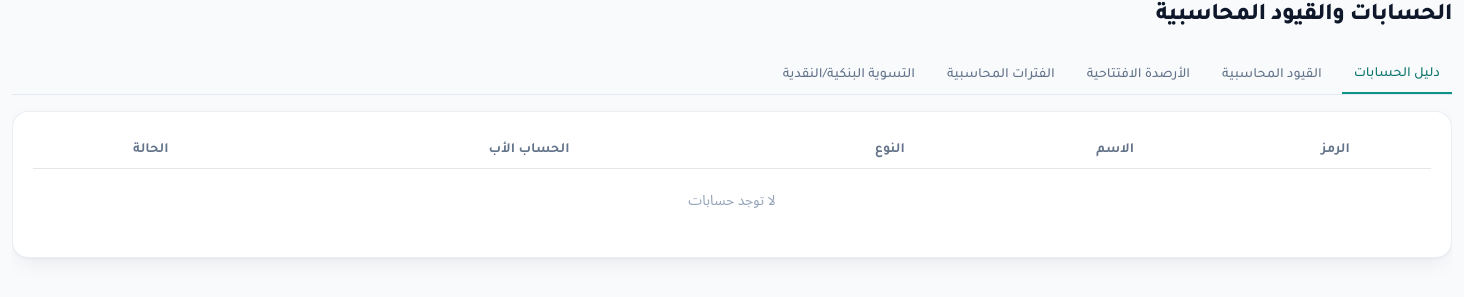
Test: AccountingPage - Opening Balances / Fiscal Periods tabs › Fiscal Periods tab lists periods and only offers create/close-reopen with accounting.period.manage
Click the button "الفترات المحاسبية": click(1001, 75) [935, 56, 1067, 94]
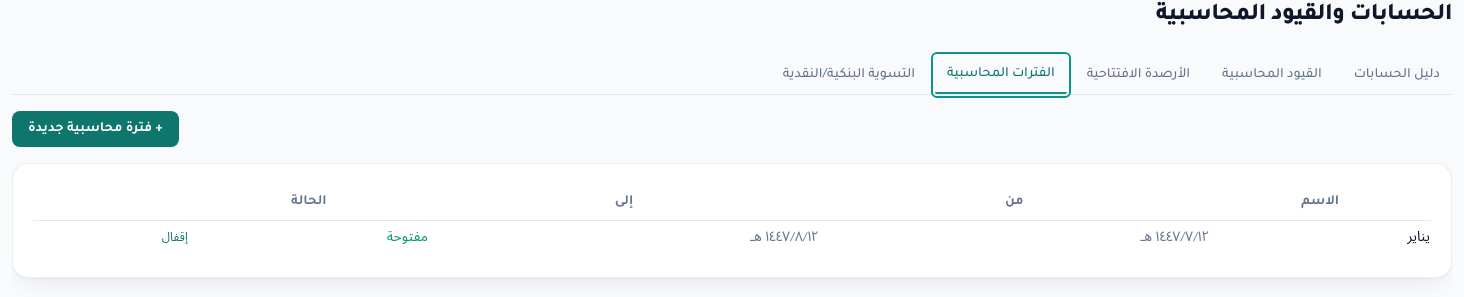
Check: the text "يناير" is shown, box [1210, 220, 1431, 257]
Check: the text "مفتوحة" is shown, box [387, 232, 428, 246]
Check: the button "+ فترة محاسبية جديدة" is shown, box [12, 111, 179, 147]
